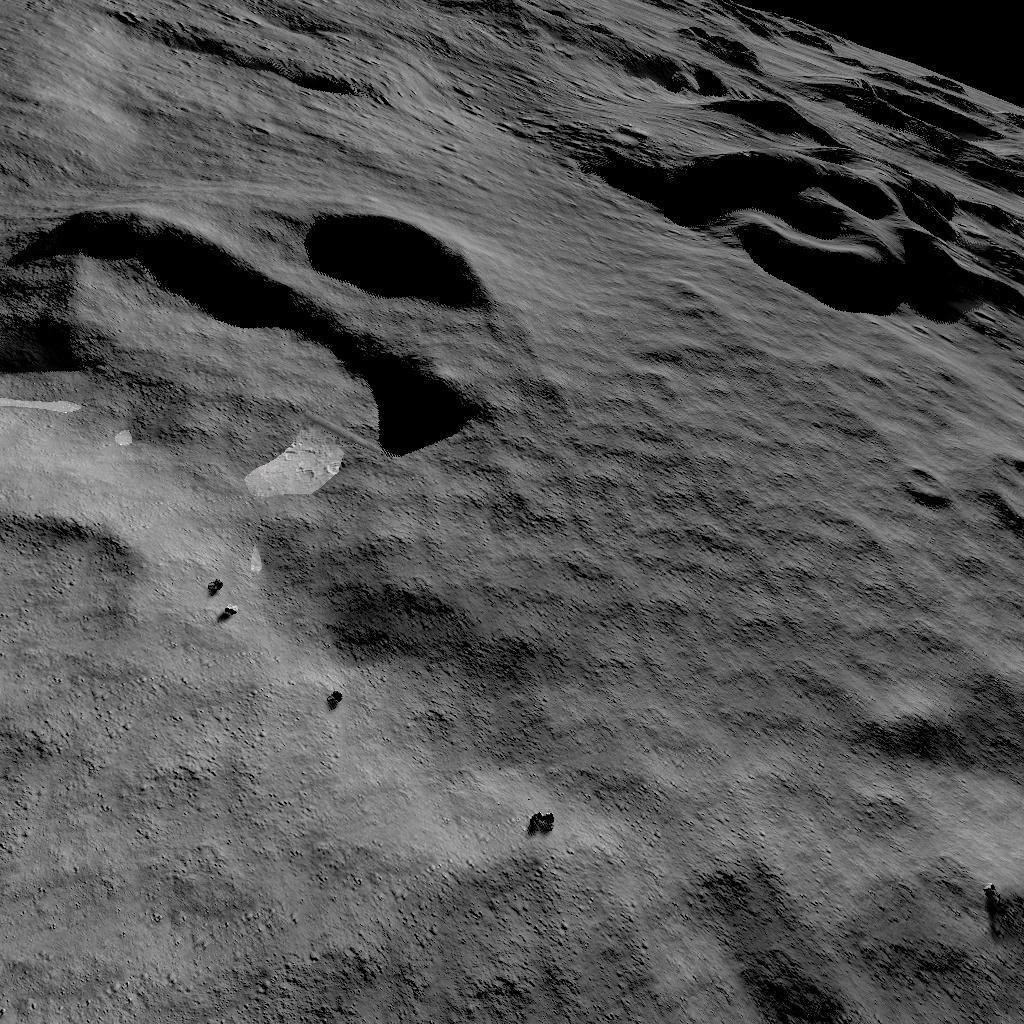Crater: (0, 204, 516, 464), (579, 38, 1024, 326), (0, 490, 151, 752), (881, 452, 1024, 534)
Plan surface: (561, 368, 869, 1024), (0, 792, 506, 1024)
